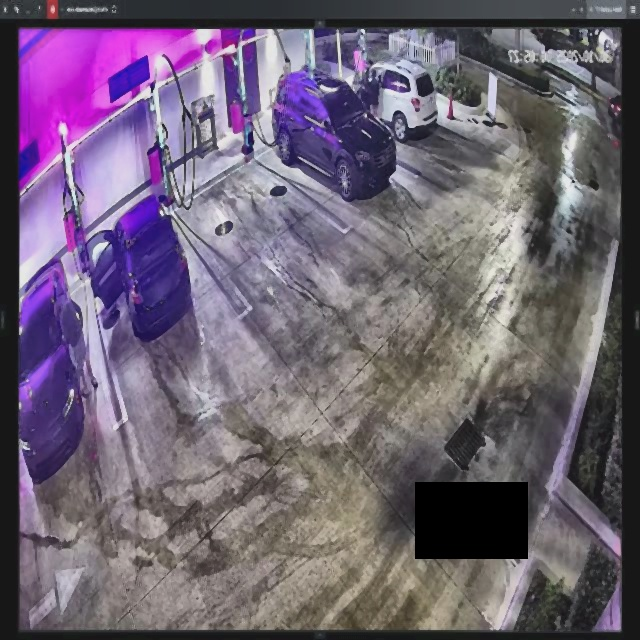Car: (273, 69, 395, 198), (84, 190, 191, 335), (342, 61, 437, 140)
